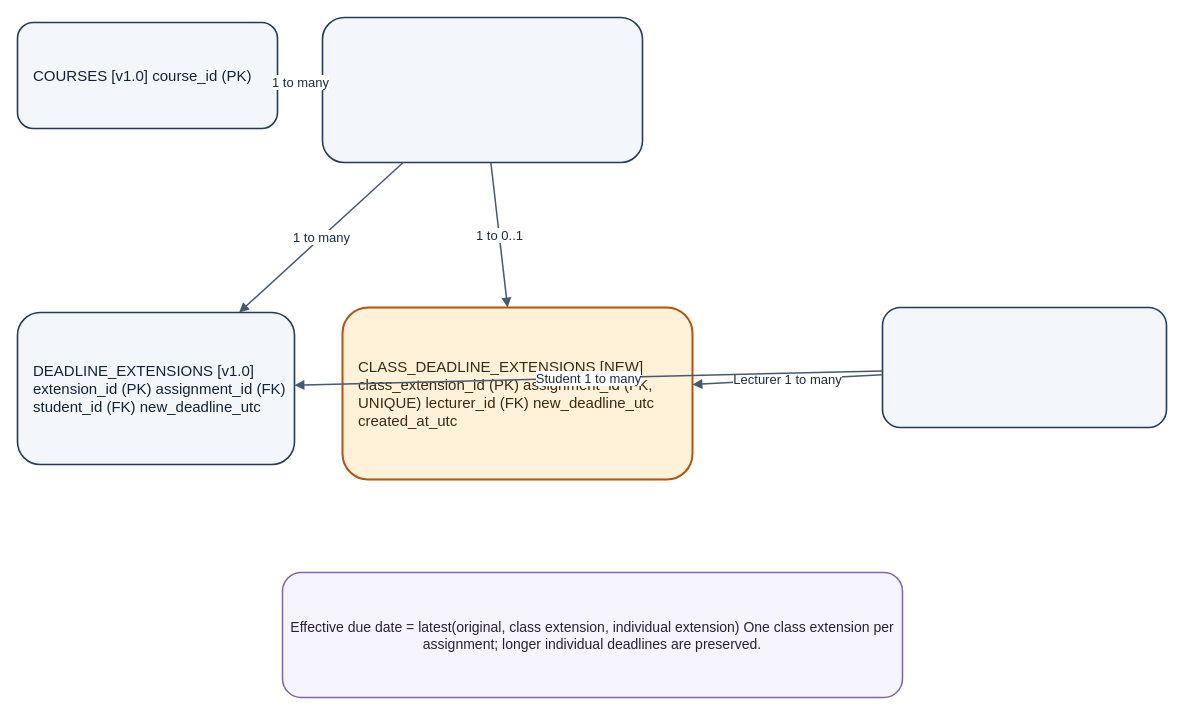
Some shapes in this 1185 by 716 pixel diagram are drawn without their labels. The centre of each missing label's shape, as x and y in pixels:
"ASSIGNMENTS assignment_id (PK) course_id (FK) deadline_utc (original)" belongs at (482,89).
"USERS [v1.0] user_id (PK) role: Lecturer or Student" belongs at (1024,367).
